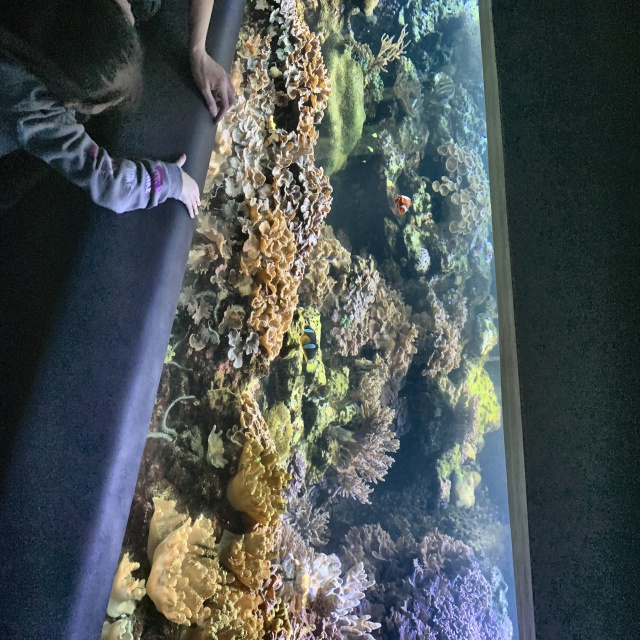fish: (299, 324, 318, 370), (395, 195, 411, 216)
